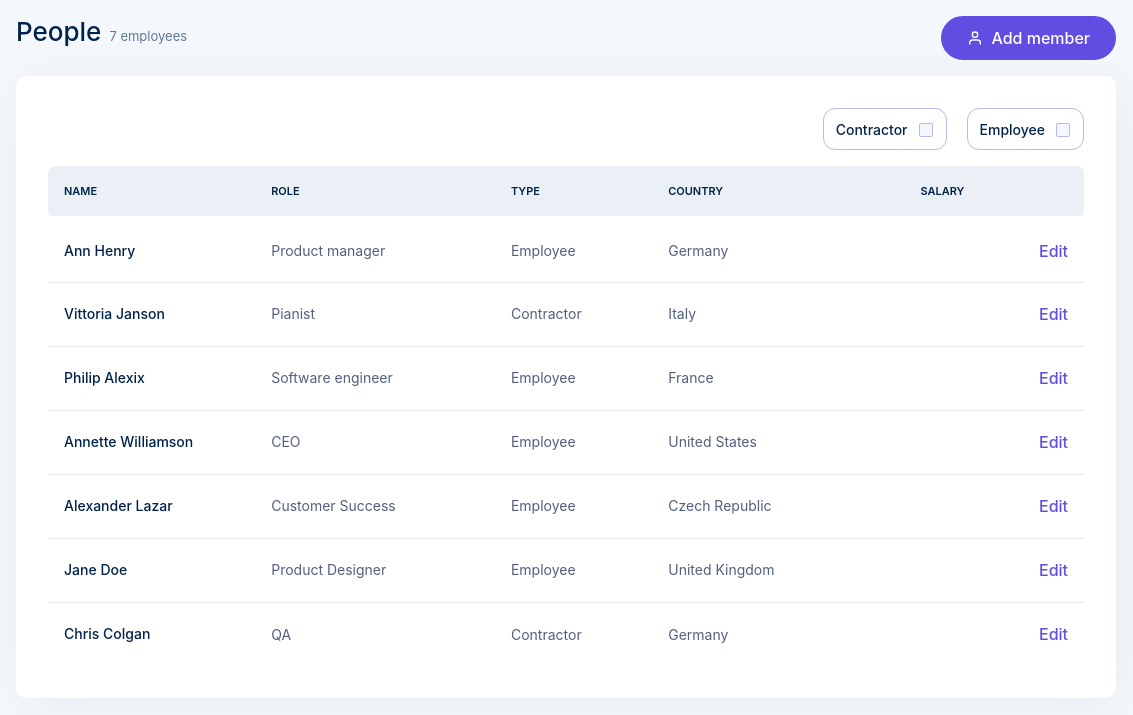
Test: Peoples Page › should search for specific employee when user selects filter contractors
The width and height of the screenshot is (1133, 715).
expect the row with test id "row-1" is shown: met, box [48,218,1084,282]
Click the text "Contractor" at (872, 130), box [836,119,908,141]
Wait 600 ms
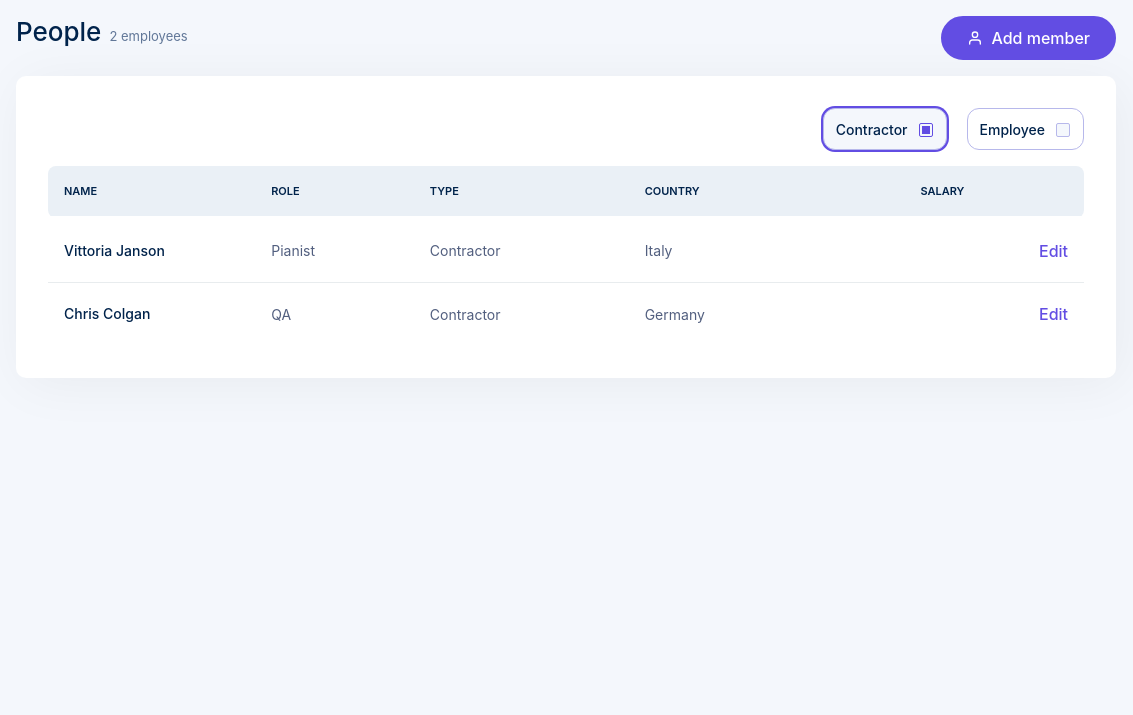
expect the heading with test id "title" shows "People2 employee": met, box [16,16,188,60]
